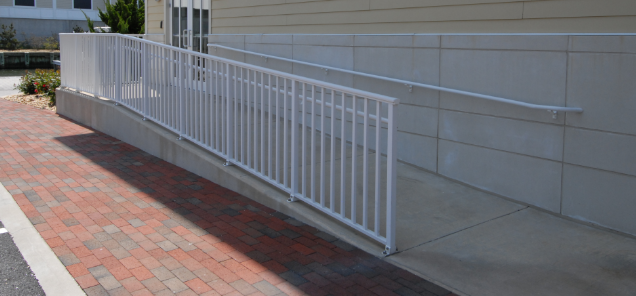slopes: (46, 23, 610, 266)
